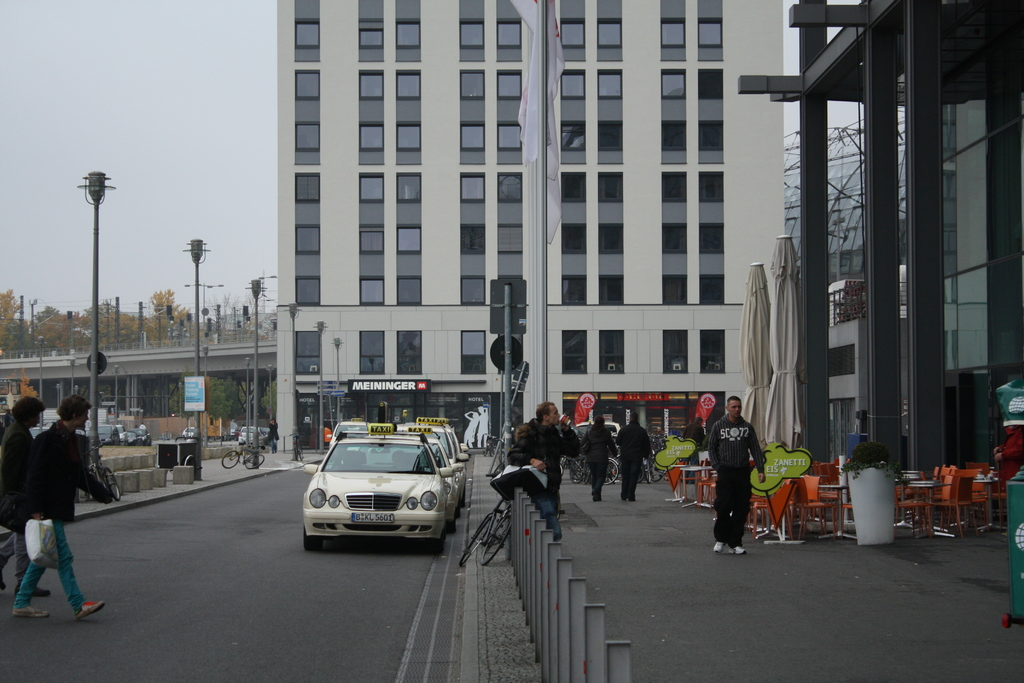Car: (300, 419, 474, 553)
